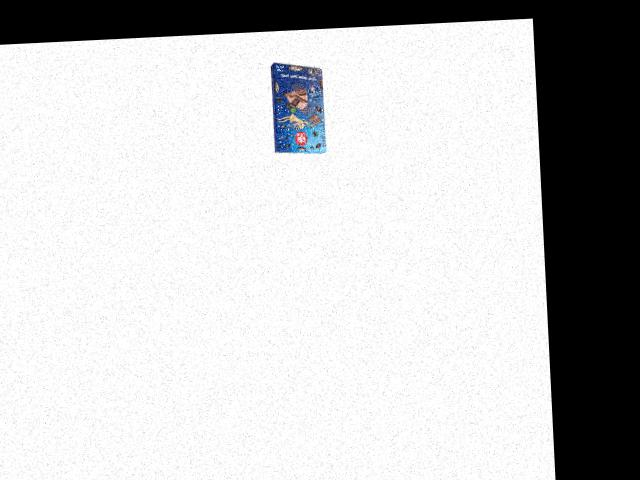chocolate: (264, 59, 333, 157)
